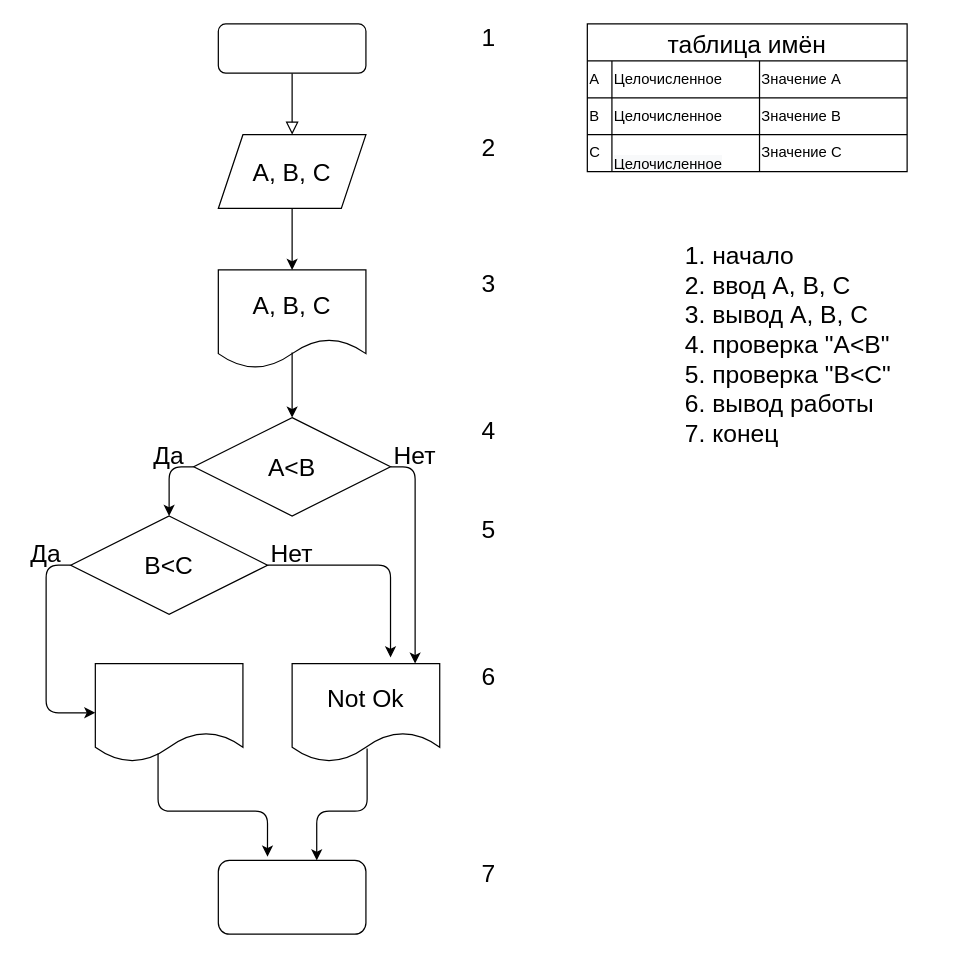
This 977x956 diagram has some shape labels left out. The centre of each missing label's shape, as x and y in pixels:
"OK" goes at point (168, 712).
"Конец" goes at point (291, 896).
"Начало" goes at point (291, 48).
